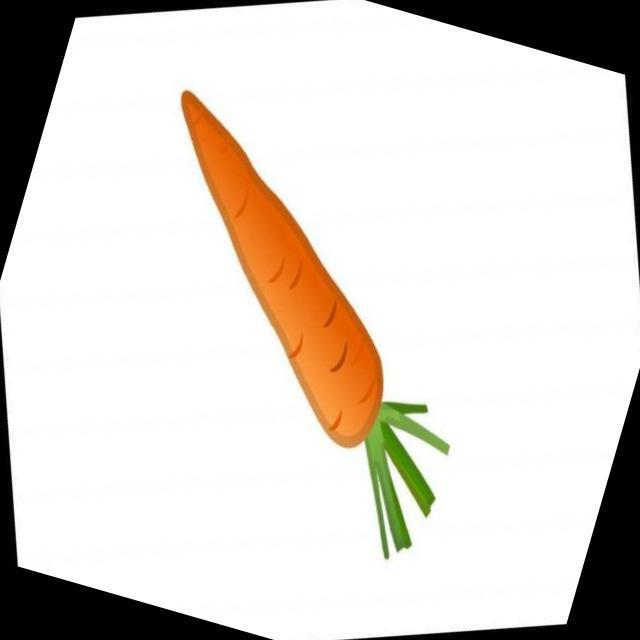Carrot: (181, 91, 449, 557)
